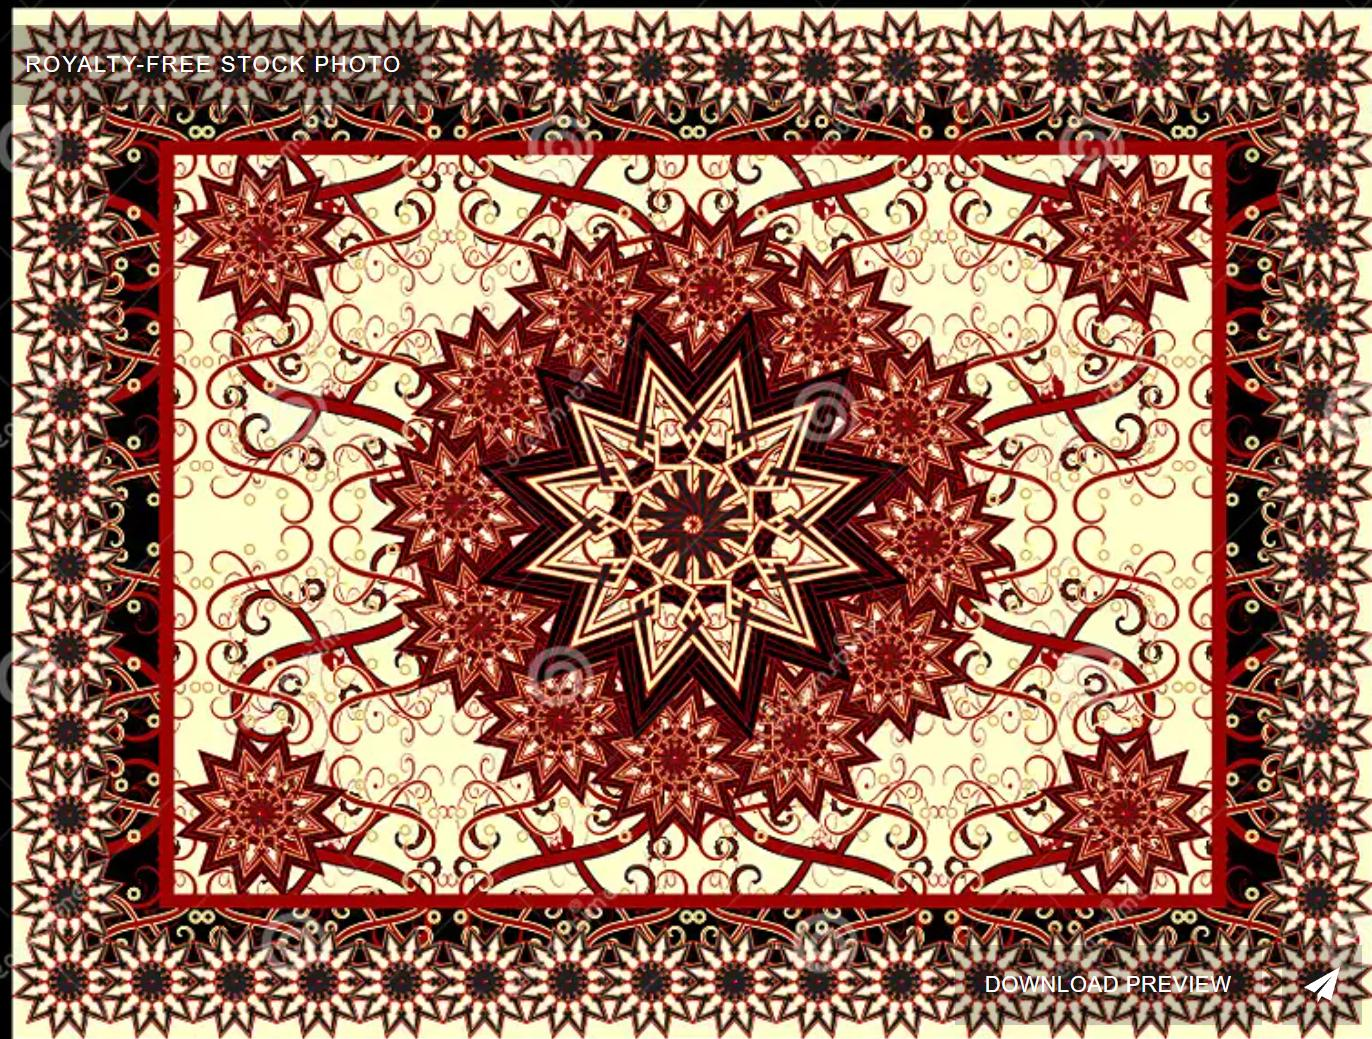carpet: (13, 11, 1372, 1031)
